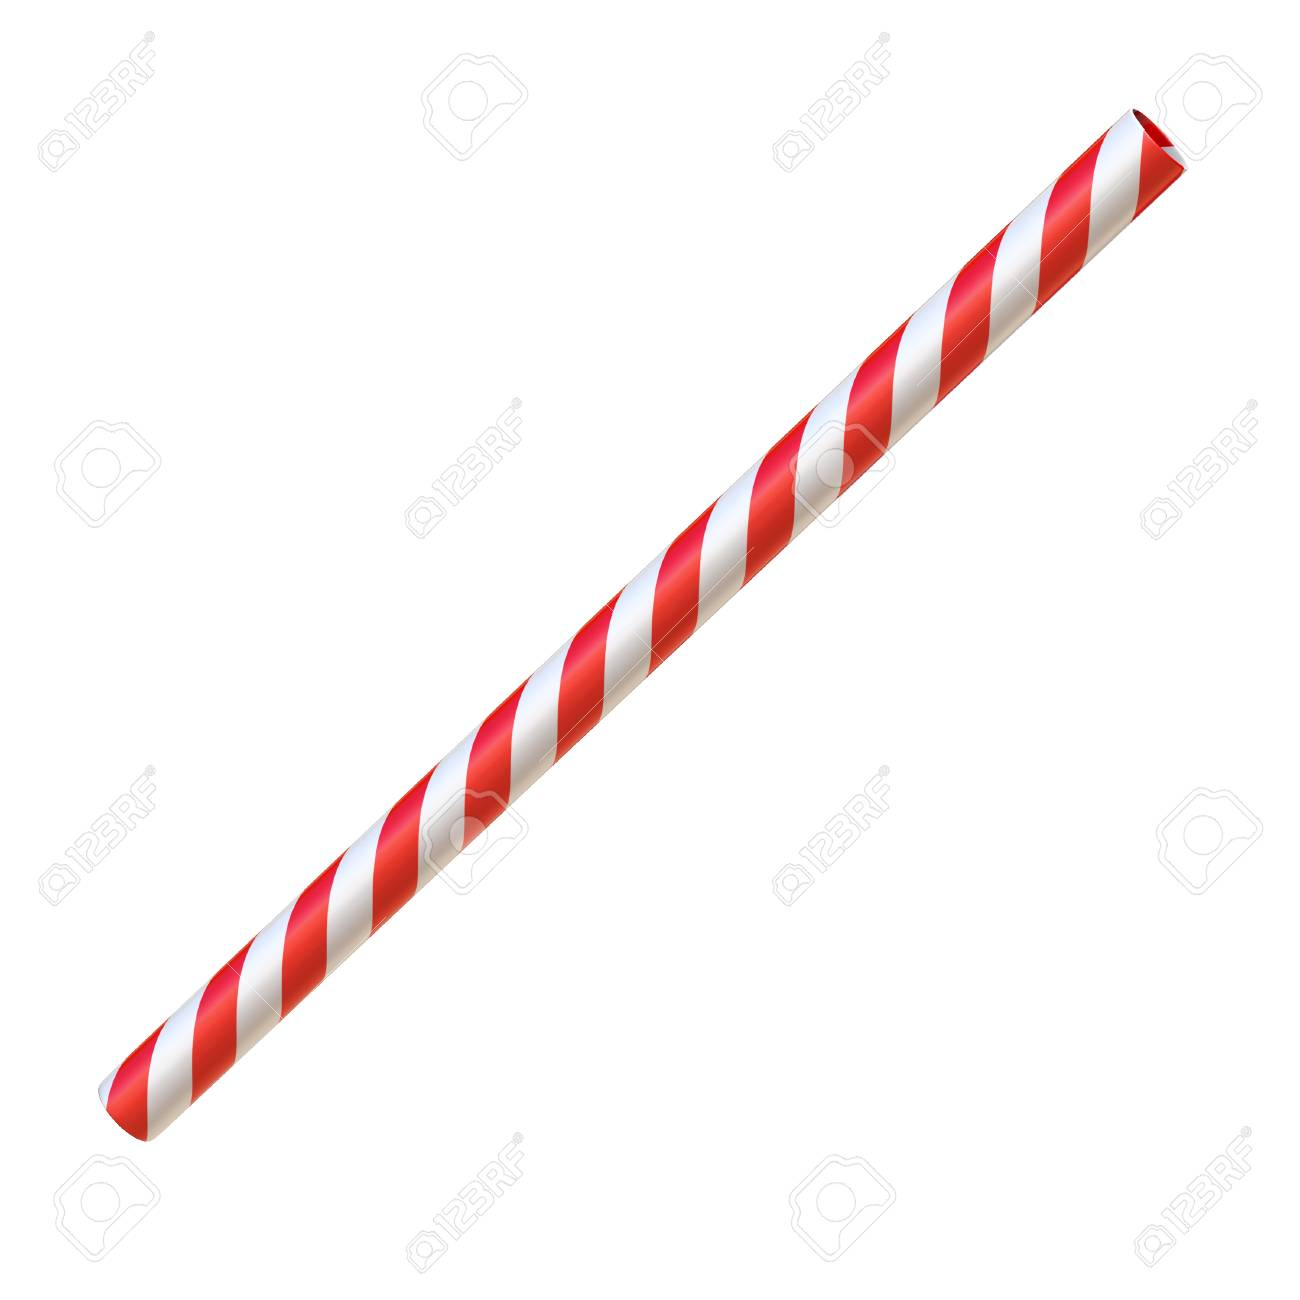Drinking Straw: (90, 102, 1193, 1152)
